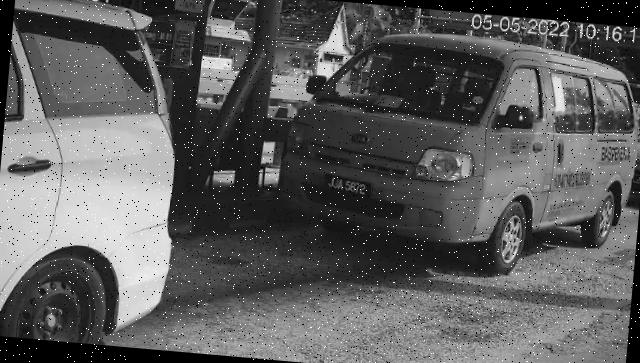License_Plate: (322, 174, 375, 203)
van: (272, 21, 640, 287)
